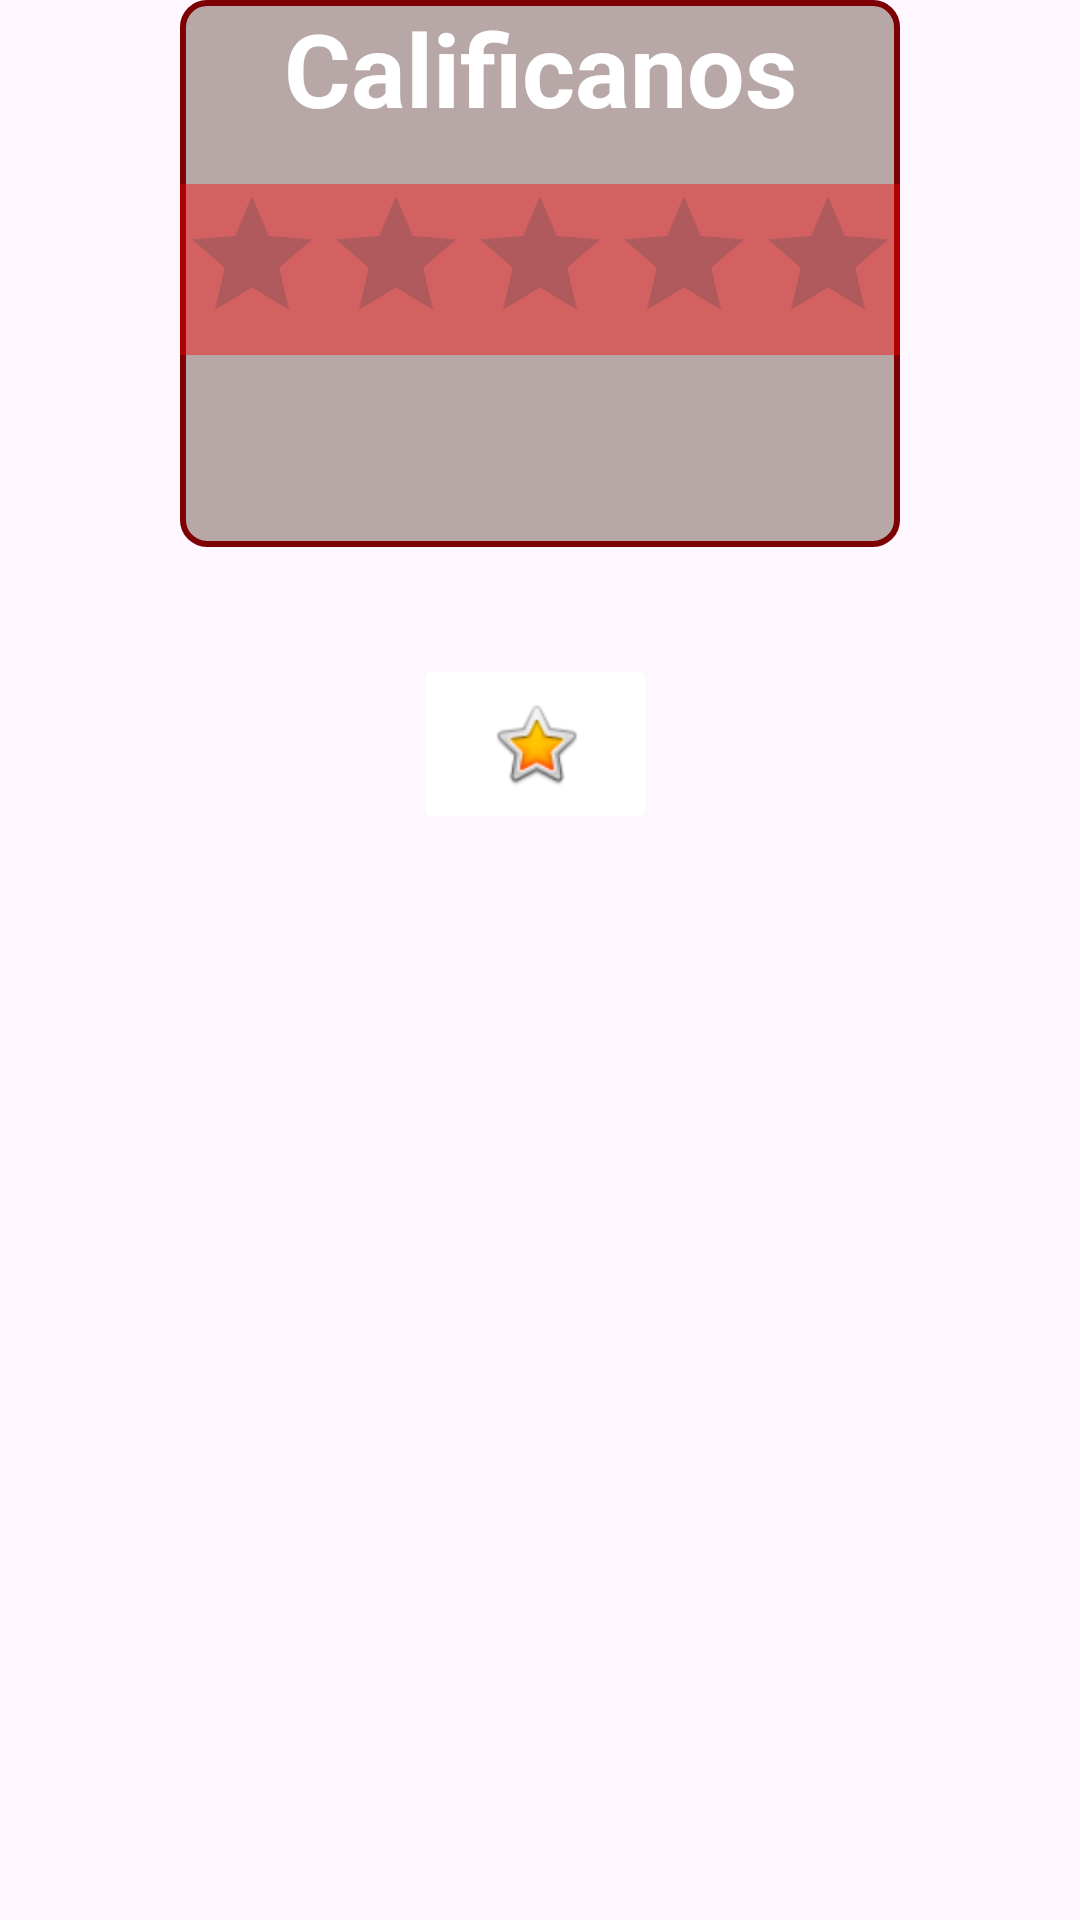

Screen size 1080 × 1920. Icon name, then its center in pixels as (x=x, y=y):
star on: (x=537, y=745)
